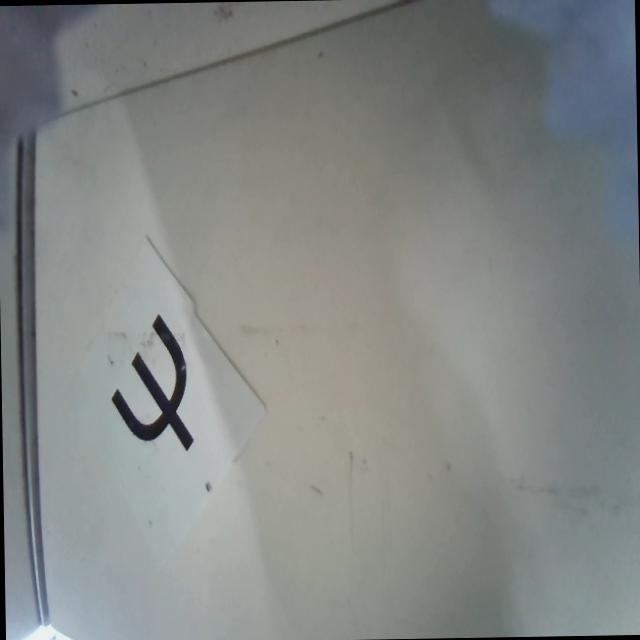nedoF: (107, 311, 194, 454)
